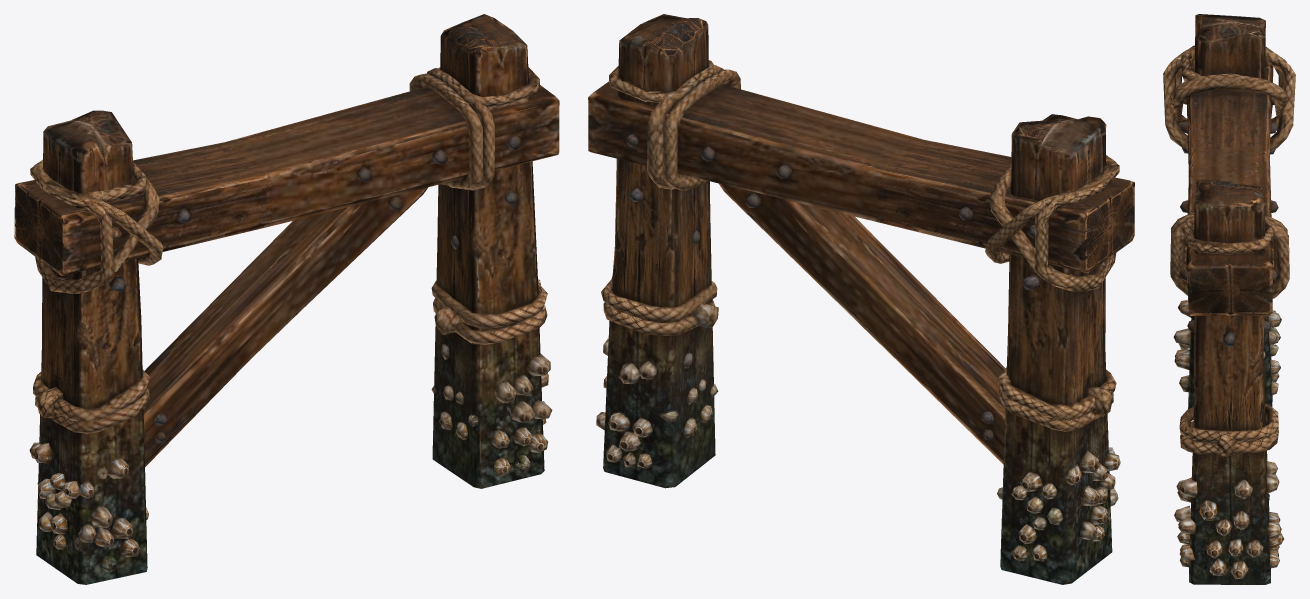
The model's file is mooring-piles.glb.
3 views of the same model, side by side, from view 1: azimuth 30°, elevation 25°; view 2: azimuth 150°, elevation 25°; view 3: azimuth 270°, elevation 25° (orthographic). The views are drawn at different scales.
Visible parts, largest first — view 1: mooring-piles-v2_LOD0; view 2: mooring-piles-v2_LOD0; view 3: mooring-piles-v2_LOD0.
Part boxes in pixels (<box>): mooring-piles-v2_LOD0: <box>14,14,559,584</box>; mooring-piles-v2_LOD0: <box>588,14,1134,584</box>; mooring-piles-v2_LOD0: <box>1163,14,1295,584</box>.
Size of what is drawn, in the model's own units: 1 by 0.8437 by 0.2658.
1 material, 1 textured.
